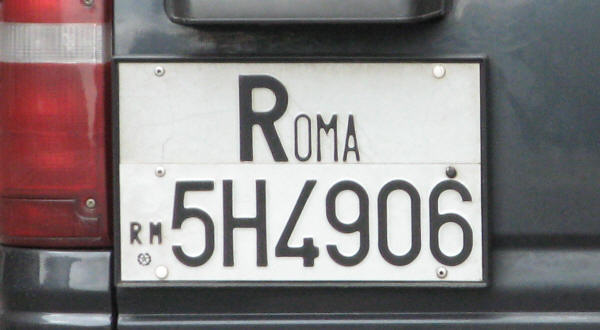license_plate: (110, 56, 487, 284)
